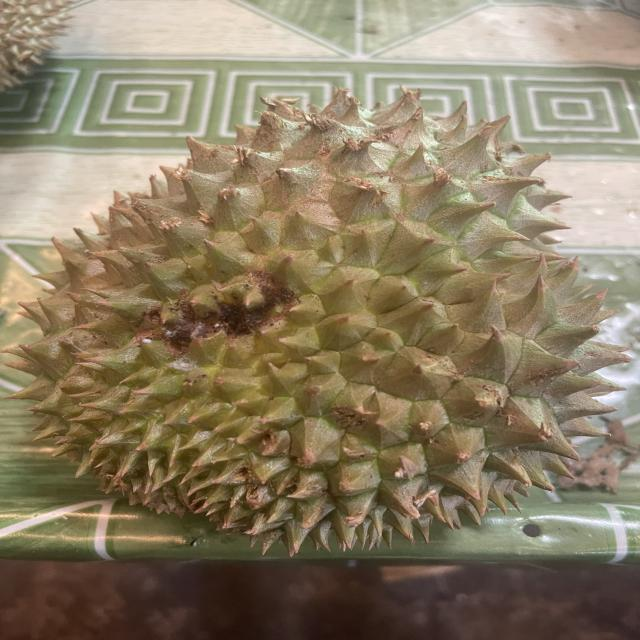mature: (1, 79, 633, 554)
